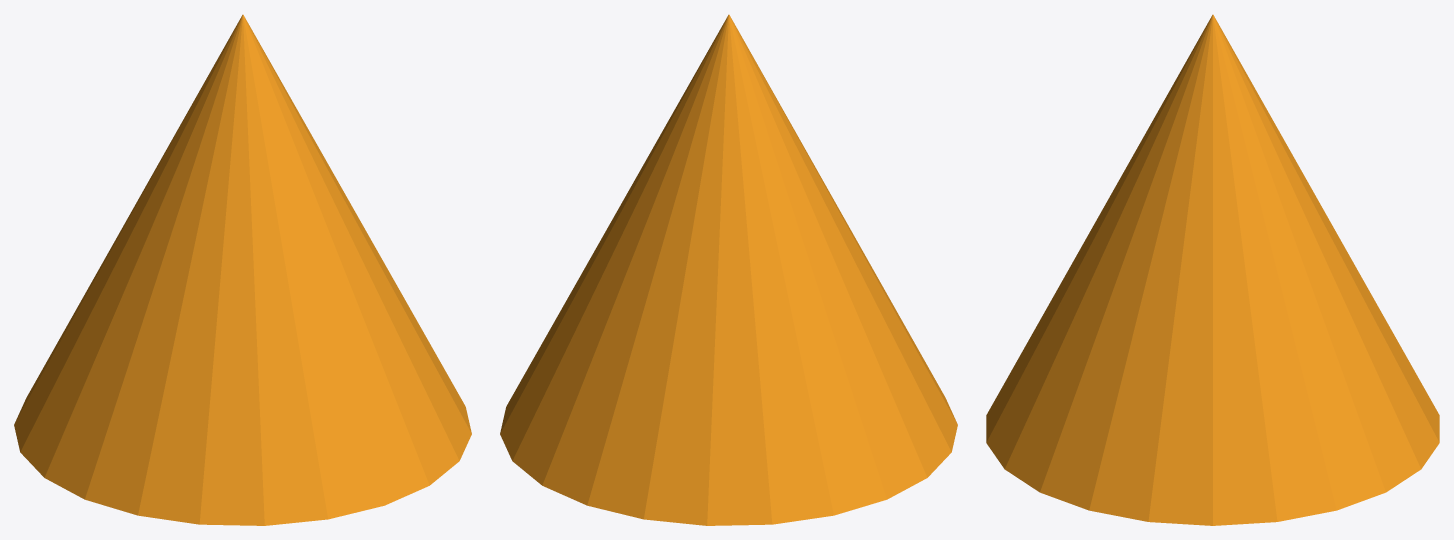
3 renders of one model, left to right at view 1: azimuth 30°, elevation 25°; view 2: azimuth 150°, elevation 25°; view 3: azimuth 270°, elevation 25°, orthographic.
Parts seen in each view (by area): view 1: SM_Primitive_Cone_04; view 2: SM_Primitive_Cone_04; view 3: SM_Primitive_Cone_04.
Boxes of the visible parts, x1,y1,x2,y2 form: SM_Primitive_Cone_04: [14, 14, 471, 525]; SM_Primitive_Cone_04: [500, 14, 957, 525]; SM_Primitive_Cone_04: [986, 14, 1439, 525].
Bounding box in the file's own units: 100 × 100 × 98.98.
